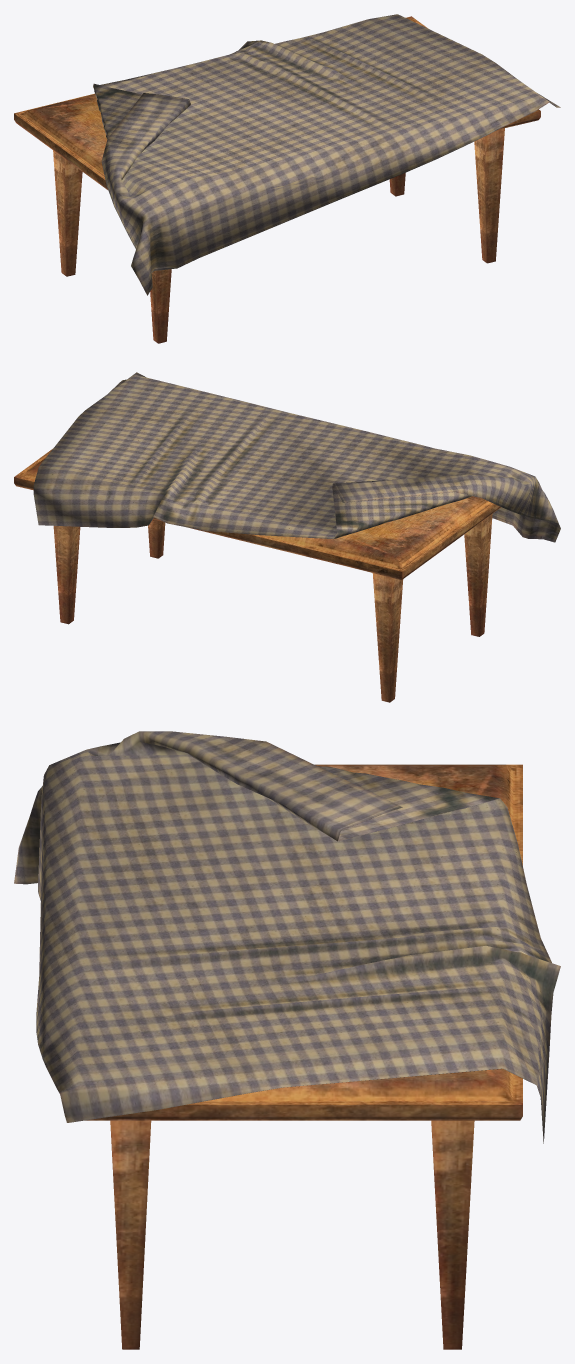
The model's file is dining_table.glb.
3 views of the same model, one above another, from view 1: azimuth 30°, elevation 25°; view 2: azimuth 150°, elevation 25°; view 3: azimuth 270°, elevation 25° (orthographic). The views are drawn at different scales.
Visible parts, largest first — view 1: dining_table; view 2: dining_table; view 3: dining_table.
Boxes of the visible parts, x1=… form: dining_table: x1=14, y1=14, x2=560, y2=343; dining_table: x1=14, y1=372, x2=560, y2=702; dining_table: x1=14, y1=731, x2=560, y2=1349.
Size of the model in its own units: 2.26 by 0.8769 by 1.39.
1 material, 1 textured.
